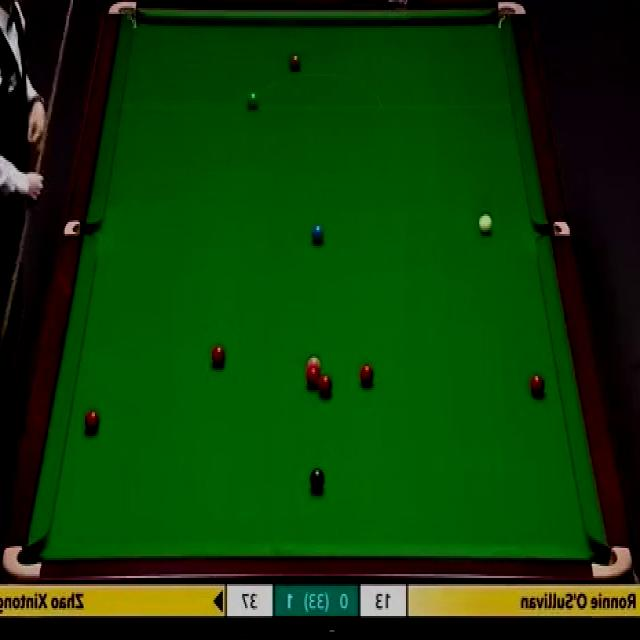black-ball: (309, 466, 325, 492)
blue-ball: (310, 222, 325, 244)
brown-ball: (289, 52, 302, 72)
green-ball: (247, 89, 260, 110)
pink-ball: (306, 356, 322, 370)
red-ball: (529, 372, 545, 398), (269, 152, 286, 174), (83, 411, 100, 433), (305, 367, 322, 388), (360, 364, 375, 386), (212, 345, 226, 368), (318, 376, 332, 396)
white-ball: (477, 210, 495, 236)
yellow-ball: (375, 88, 388, 109)
